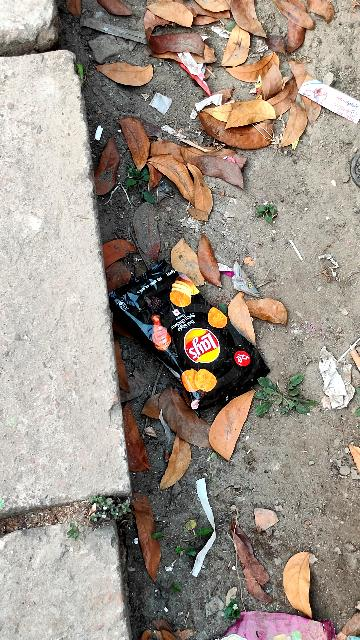packet: (108, 255, 272, 424)
